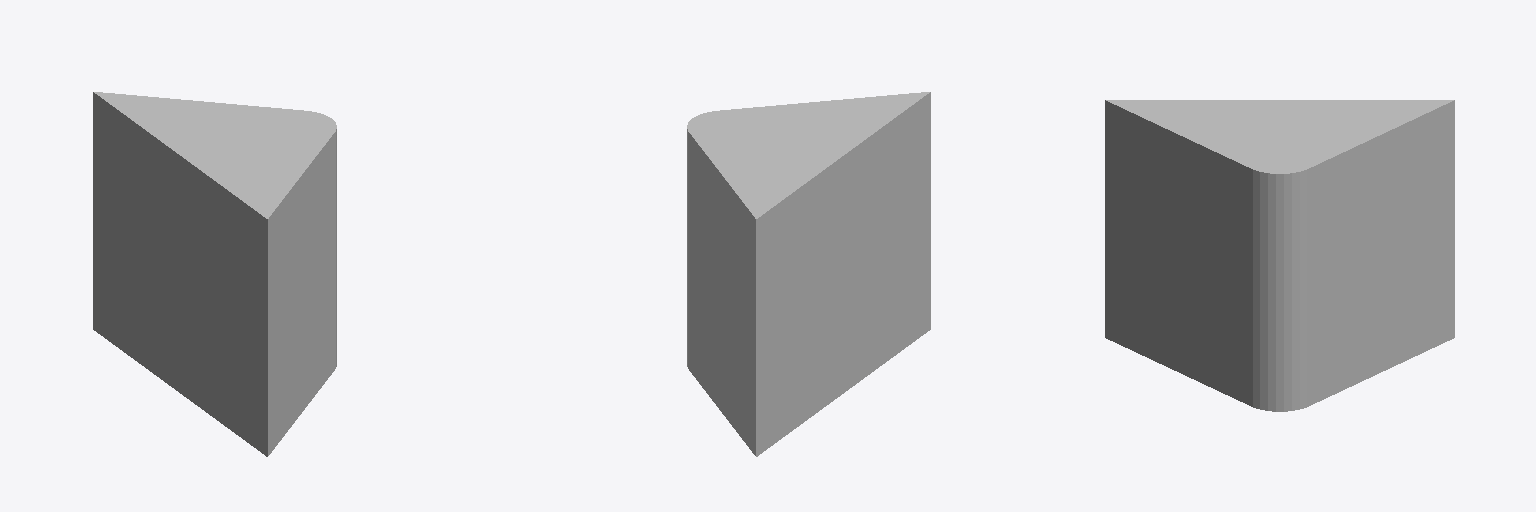
The model's file is sideBumper.obj.
The picture shows the model from 3 angles: view 1: azimuth 30°, elevation 25°; view 2: azimuth 150°, elevation 25°; view 3: azimuth 270°, elevation 25°; orthographic projection.
Visible parts, largest first — view 1: sideBumper.obj; view 2: sideBumper.obj; view 3: sideBumper.obj.
Part boxes in pixels (x1,y1,x2,y2): sideBumper.obj: (93, 92, 336, 456); sideBumper.obj: (687, 92, 930, 456); sideBumper.obj: (1105, 100, 1454, 411).
Size of the model in its own units: 0.5 by 0.75 by 1.